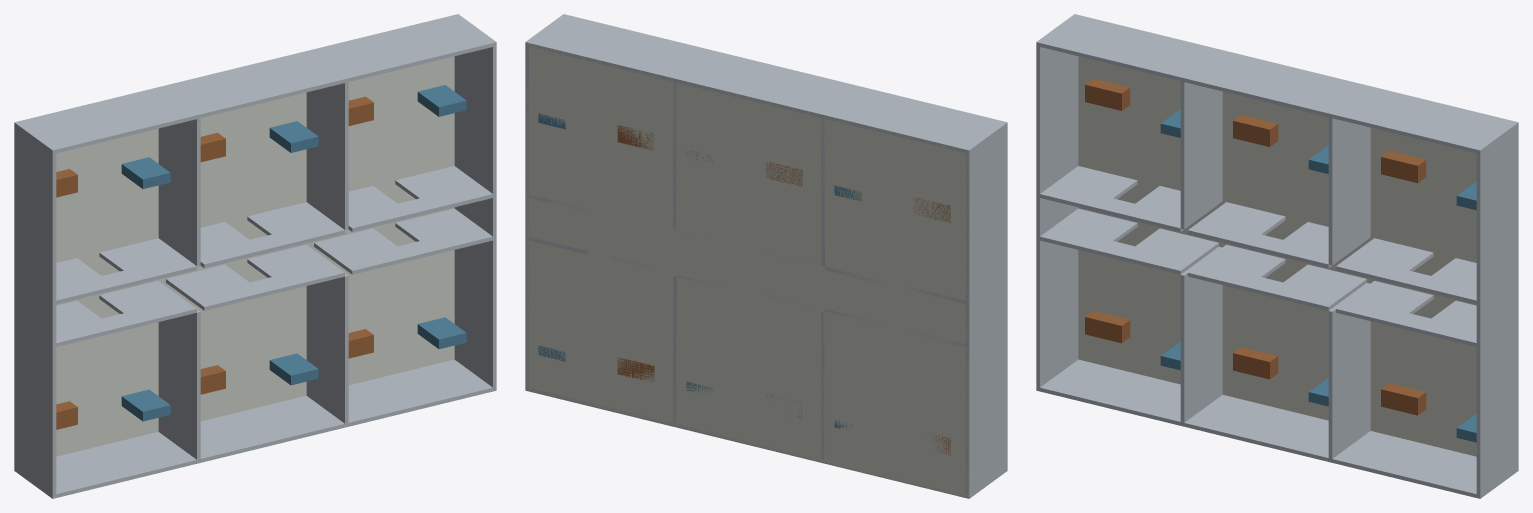
File: office-floor.obj
3 views of the same model, side by side, from view 1: azimuth 30°, elevation 25°; view 2: azimuth 150°, elevation 25°; view 3: azimuth 330°, elevation 25° (orthographic).
Visible parts, largest first — view 1: ground-visual-only, north-wall, south-wall, west-wall, east-wall, partition-7.8-0.2, partition-15.8-0.2, partition-7.8-10.2, partition-15.8-10.2, office-0-2-door-left, office-0-1-door-left, office-0-1-door-right (+21 smaller); view 2: ground-visual-only, north-wall, west-wall, south-wall, east-wall, desk-2-2.0, partition-7.8-10.2, partition-15.8-0.2, partition-15.8-10.2, desk-2-14.0, desk-1-14.0, partition-7.8-0.2; view 3: ground-visual-only, north-wall, south-wall, east-wall, west-wall, partition-7.8-0.2, partition-15.8-0.2, partition-15.8-10.2, partition-7.8-10.2, office-0-0-door-right, office-0-1-door-right, office-0-1-door-left (+15 smaller).
Part boxes in pixels (<box>): ground-visual-only: <box>56,56,454,456</box>; north-wall: <box>14,14,496,154</box>; south-wall: <box>14,359,496,498</box>; west-wall: <box>14,126,56,494</box>; east-wall: <box>454,46,496,387</box>; partition-7.8-0.2: <box>158,309,200,459</box>; partition-15.8-0.2: <box>306,273,348,423</box>; partition-7.8-10.2: <box>158,118,200,266</box>; partition-15.8-10.2: <box>306,82,348,229</box>; office-0-2-door-left: <box>314,228,411,274</box>; office-0-1-door-left: <box>166,264,263,310</box>; office-0-1-door-right: <box>247,244,344,290</box>; ground-visual-only: <box>525,43,969,498</box>; north-wall: <box>525,14,1007,154</box>; west-wall: <box>965,126,1007,494</box>; south-wall: <box>525,387,1007,498</box>; east-wall: <box>525,46,528,387</box>; desk-2-2.0: <box>617,357,654,380</box>; partition-7.8-10.2: <box>821,118,824,266</box>; partition-15.8-0.2: <box>673,276,676,422</box>; partition-15.8-10.2: <box>673,82,676,229</box>; desk-2-14.0: <box>617,125,654,150</box>; desk-1-14.0: <box>765,162,802,186</box>; partition-7.8-0.2: <box>821,312,824,459</box>; ground-visual-only: <box>1078,56,1476,456</box>; north-wall: <box>1036,14,1518,154</box>; south-wall: <box>1036,359,1518,498</box>; east-wall: <box>1476,126,1518,494</box>; west-wall: <box>1036,46,1078,387</box>; partition-7.8-0.2: <box>1180,246,1222,422</box>; partition-15.8-0.2: <box>1328,283,1370,458</box>; partition-15.8-10.2: <box>1328,117,1370,265</box>; partition-7.8-10.2: <box>1180,81,1222,228</box>; office-0-0-door-right: <box>1121,228,1218,274</box>; office-0-1-door-right: <box>1269,264,1366,310</box>; office-0-1-door-left: <box>1188,244,1285,290</box>.
Size of the model in its own units: 24 by 18 by 3.6.
